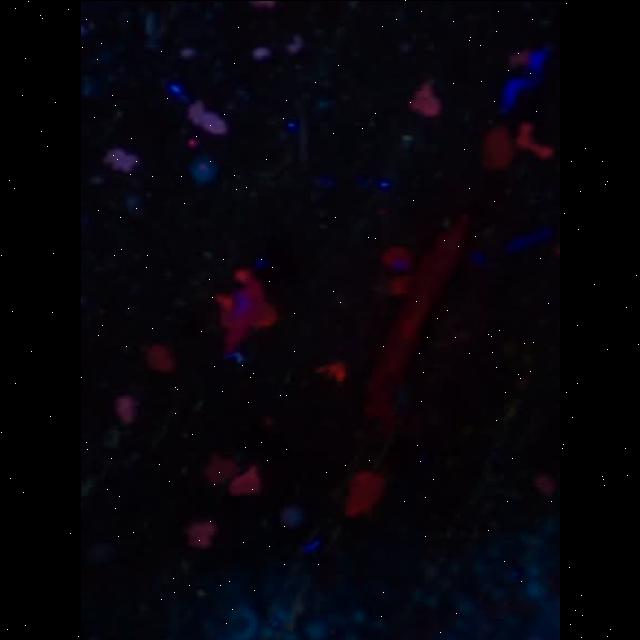Fragment: (214, 268, 276, 351)
